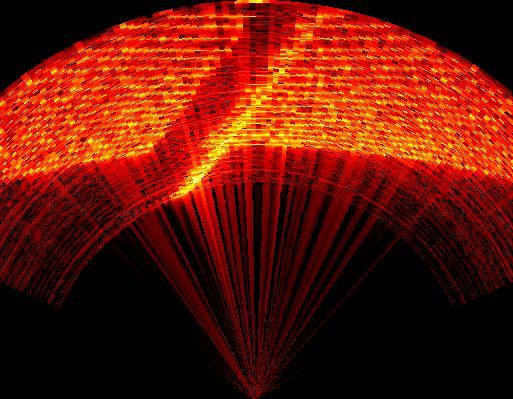pipe: (151, 4, 333, 199)
